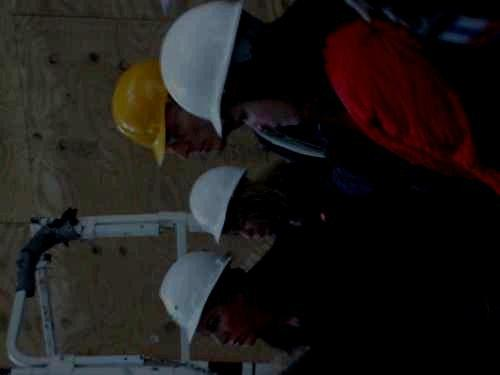helmet: (159, 1, 314, 139), (112, 58, 228, 167), (158, 250, 259, 348), (189, 163, 277, 246)
